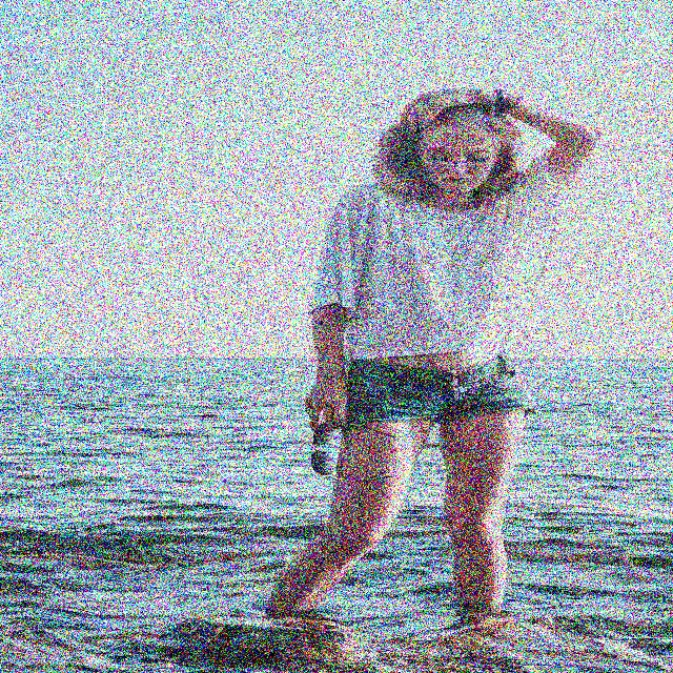Crop_Top: (356, 213, 506, 370)
Shorts: (334, 349, 545, 590)
